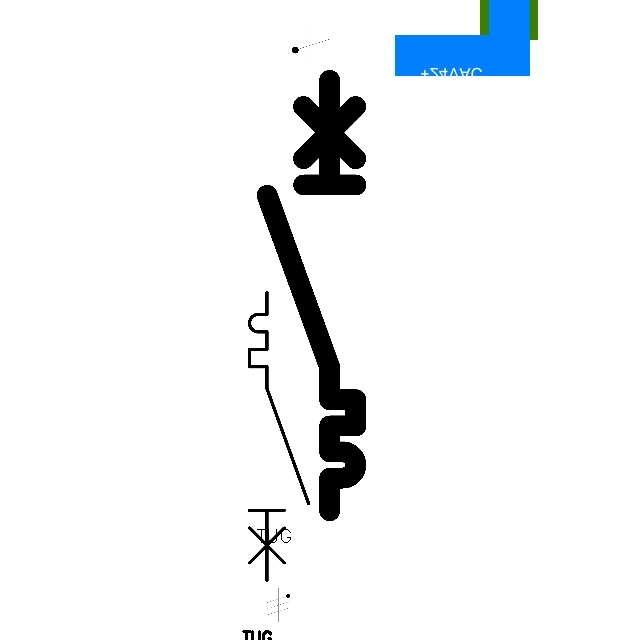interruptor_termomagnetico: (256, 69, 367, 522), (242, 285, 316, 588)
